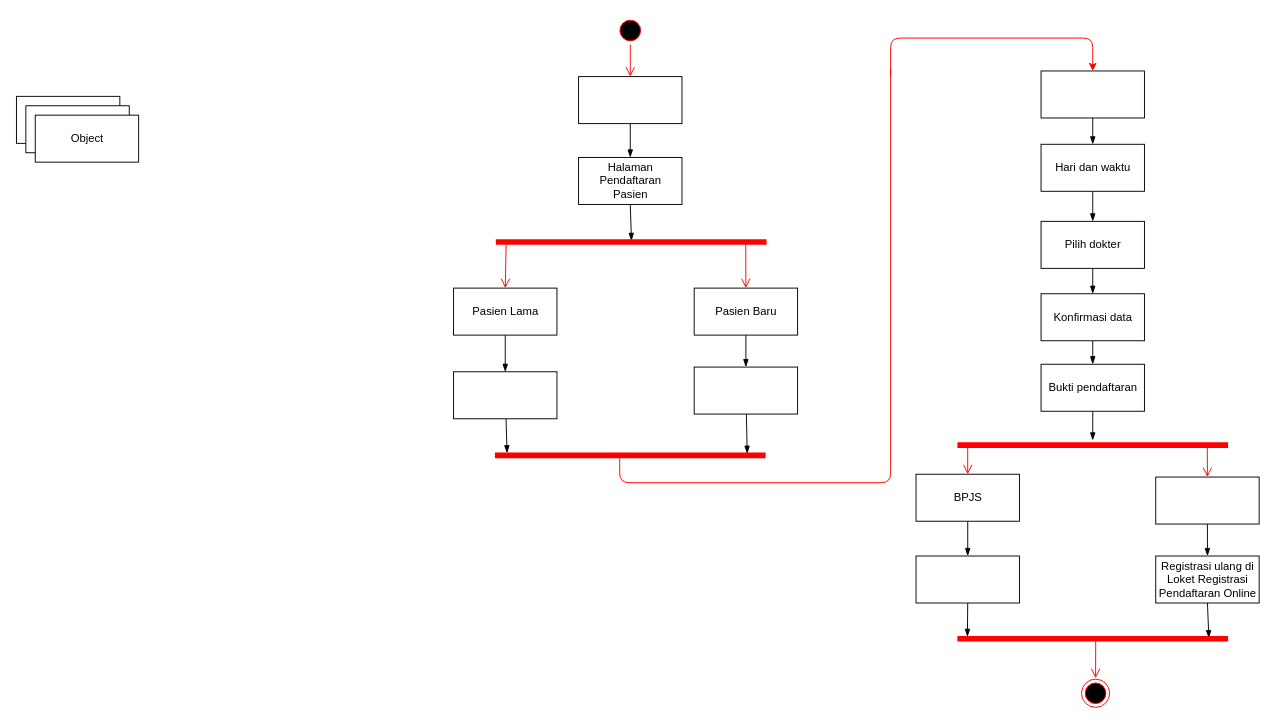
Image size: 1276x724. Some labels were removed from this diagram. The box of each missing label's shape, as (x1, y1, x2, y2) in pixels:
Home Page: (578, 76, 682, 124)
Input data lengkap: (693, 366, 798, 414)
Input No. Rekam medis: (453, 371, 557, 419)
Input No. WA: (1040, 70, 1144, 118)
Non BPJS: (1155, 476, 1259, 524)
Registrasi ulang di mesin APM: (915, 555, 1019, 603)
